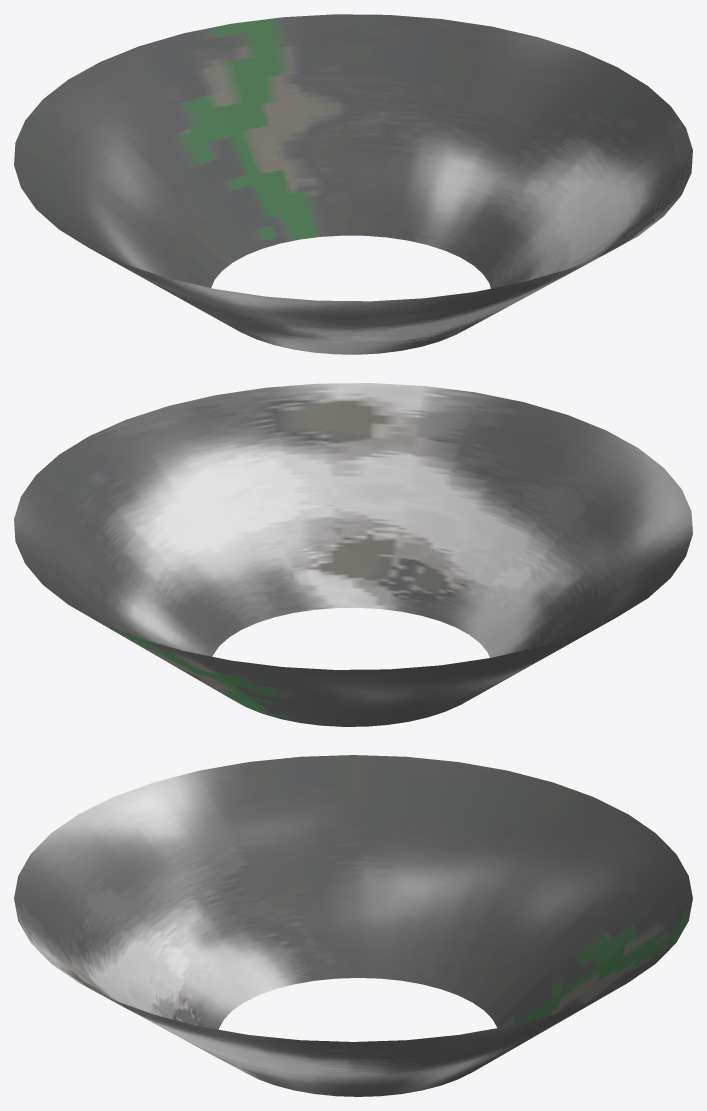
Rendered from horn_laba_001.FBX.
The picture shows the model from 3 angles, top to bottom: view 1: azimuth 30°, elevation 25°; view 2: azimuth 150°, elevation 25°; view 3: azimuth 270°, elevation 25°; orthographic projection.
Parts seen in each view (by area): view 1: horn_laba_001; view 2: horn_laba_001; view 3: horn_laba_001.
Part boxes in pixels (x1,y1,x2,y2): horn_laba_001: (14,14,692,354); horn_laba_001: (14,383,692,726); horn_laba_001: (14,755,692,1096).
Size of the model in its own units: 570 by 129 by 570.
